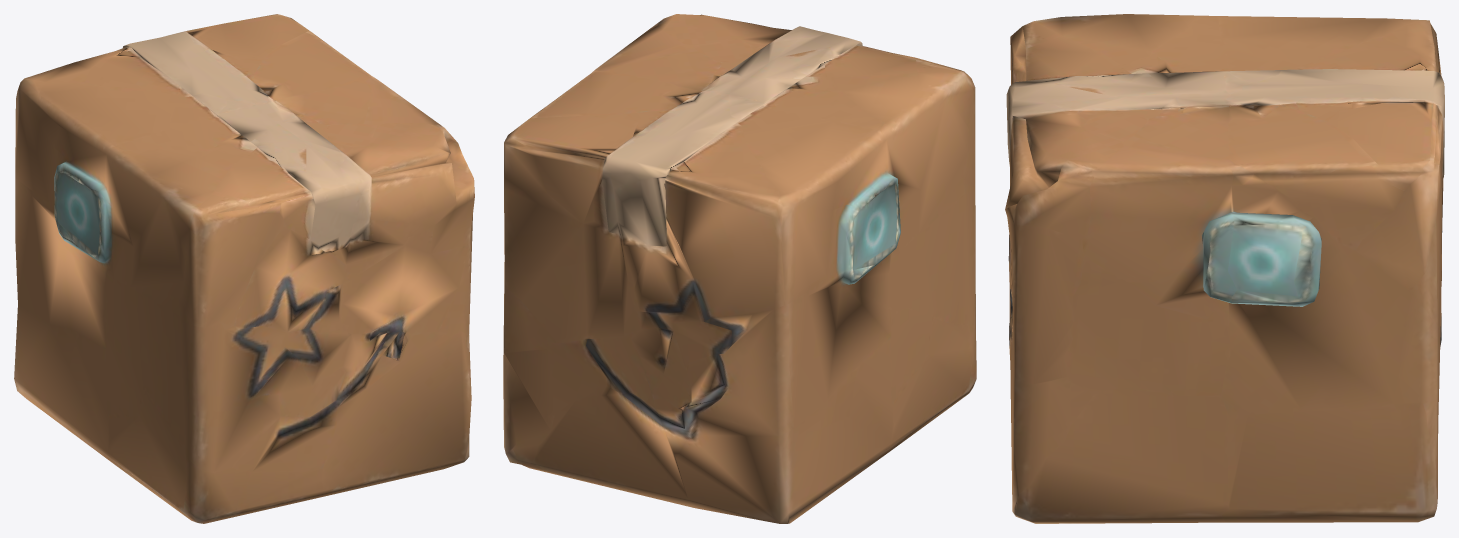
File: moving-box.low.glb
3 views of the same model, side by side, from view 1: azimuth 30°, elevation 25°; view 2: azimuth 150°, elevation 25°; view 3: azimuth 270°, elevation 25° (orthographic). The views are drawn at different scales.
Parts seen in each view (by area): view 1: tripo_node_ac6150f5-f9b6-450d-adf1-810850c692bf; view 2: tripo_node_ac6150f5-f9b6-450d-adf1-810850c692bf; view 3: tripo_node_ac6150f5-f9b6-450d-adf1-810850c692bf.
Part boxes in pixels (x1,y1,x2,y2): tripo_node_ac6150f5-f9b6-450d-adf1-810850c692bf: (14,14,474,523); tripo_node_ac6150f5-f9b6-450d-adf1-810850c692bf: (503,14,976,523); tripo_node_ac6150f5-f9b6-450d-adf1-810850c692bf: (1005,14,1444,523).
Size of the model in its own units: 0.4333 by 0.4393 by 0.4718.
Materials: 1 (1 with a texture image).
